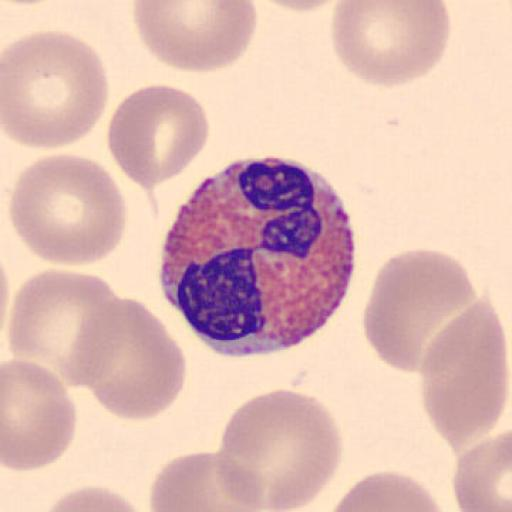RBC: (216, 387, 344, 511), (71, 296, 188, 422), (361, 248, 478, 372), (7, 267, 125, 389), (418, 300, 511, 453), (8, 152, 129, 266), (1, 28, 111, 150), (106, 82, 210, 190), (329, 1, 453, 88), (132, 1, 260, 74), (1, 359, 77, 472), (147, 448, 264, 512), (327, 469, 444, 512), (452, 431, 511, 512), (42, 484, 144, 512), (253, 0, 347, 13), (0, 0, 64, 4)
WBC: (158, 156, 358, 356)
